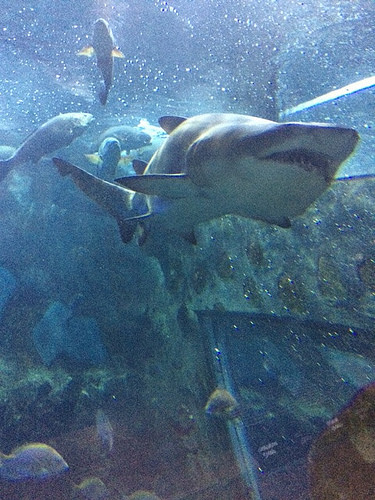shark: (52, 70, 363, 259)
